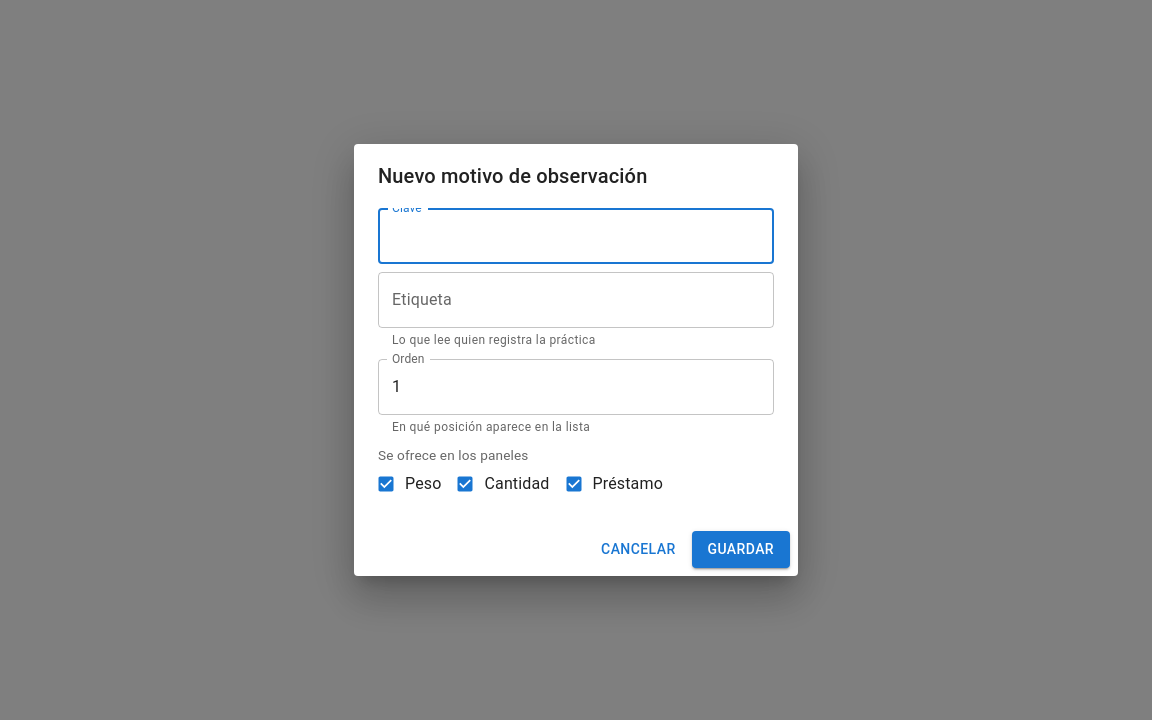
Scenario: DialogoMotivo › rechaza una clave con mayúsculas o espacios
Type "Derrame Grande" into the field labelled "Clave".
click(576, 236); type("Derrame Grande")  # box [378,208,774,264]
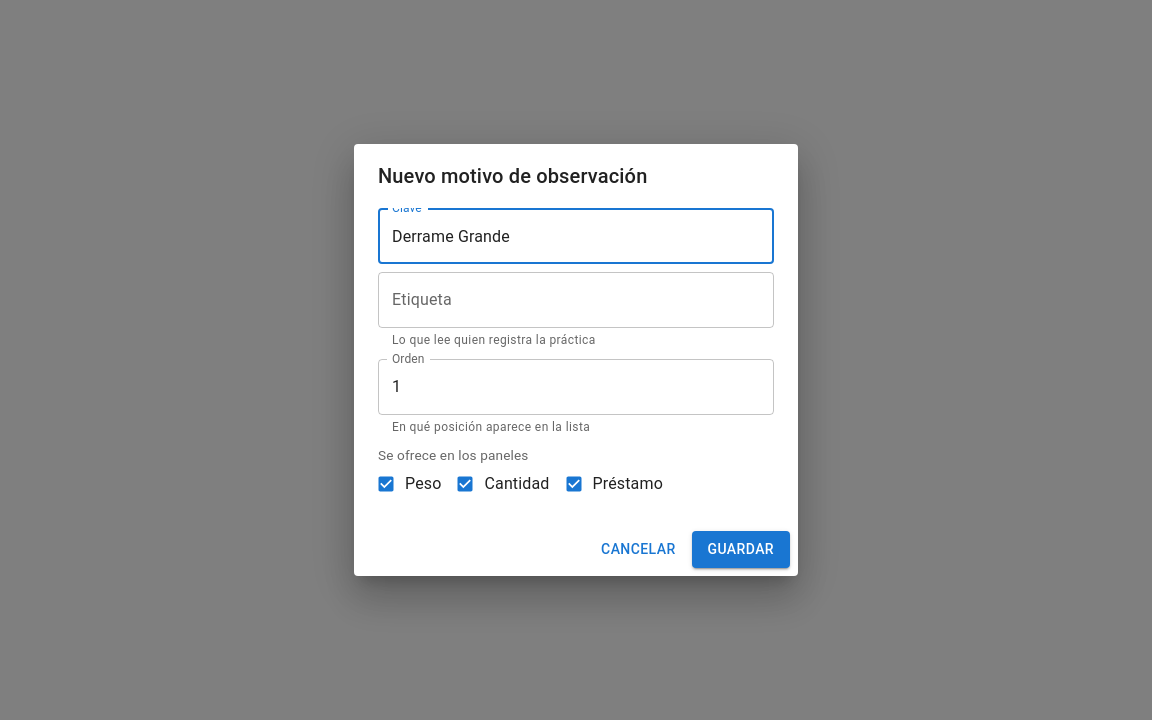
Type "Derrame" into the field labelled "Etiqueta".
click(576, 300); type("Derrame")  # box [378,272,774,328]
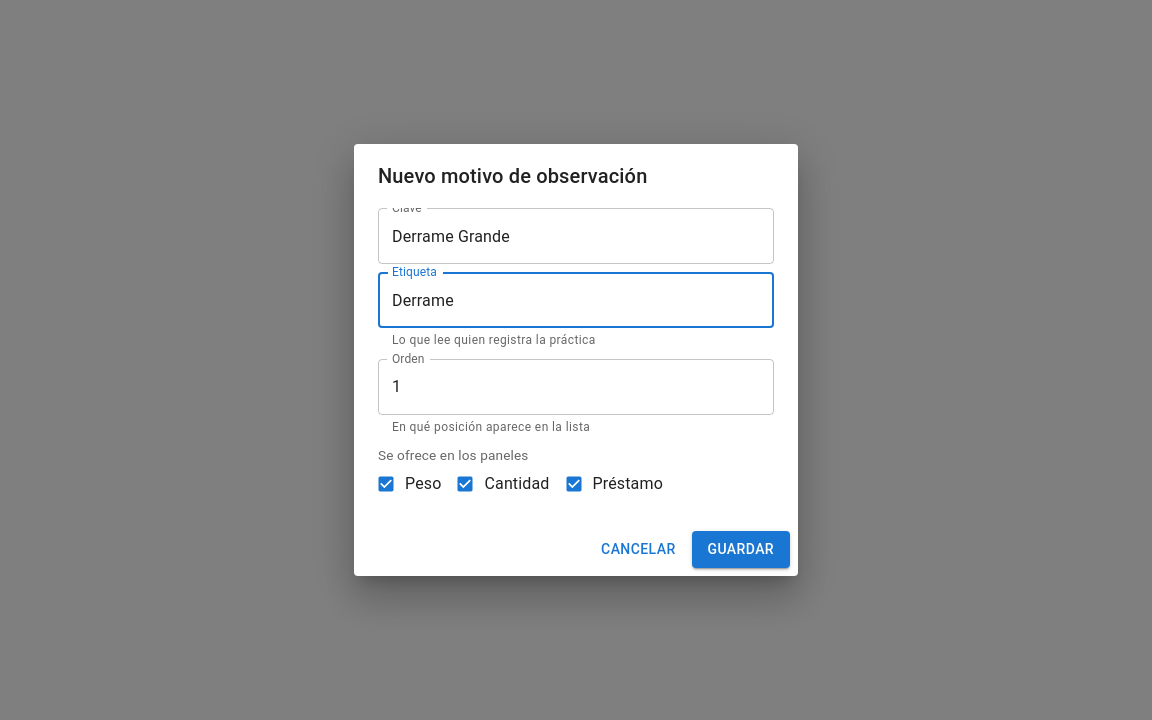
Click the button "Guardar".
click(741, 550)  # box [692,531,790,568]
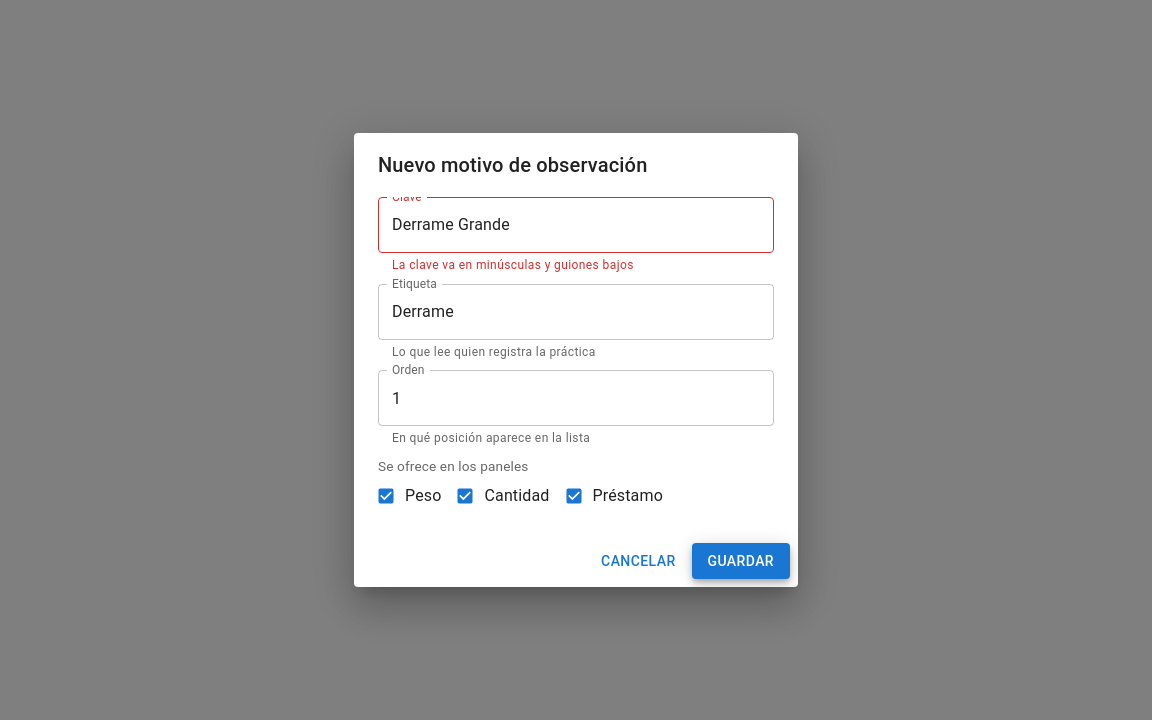
expect the text "La clave va en minúsculas y guiones bajos" is shown: met, box [392,258,634,272]
